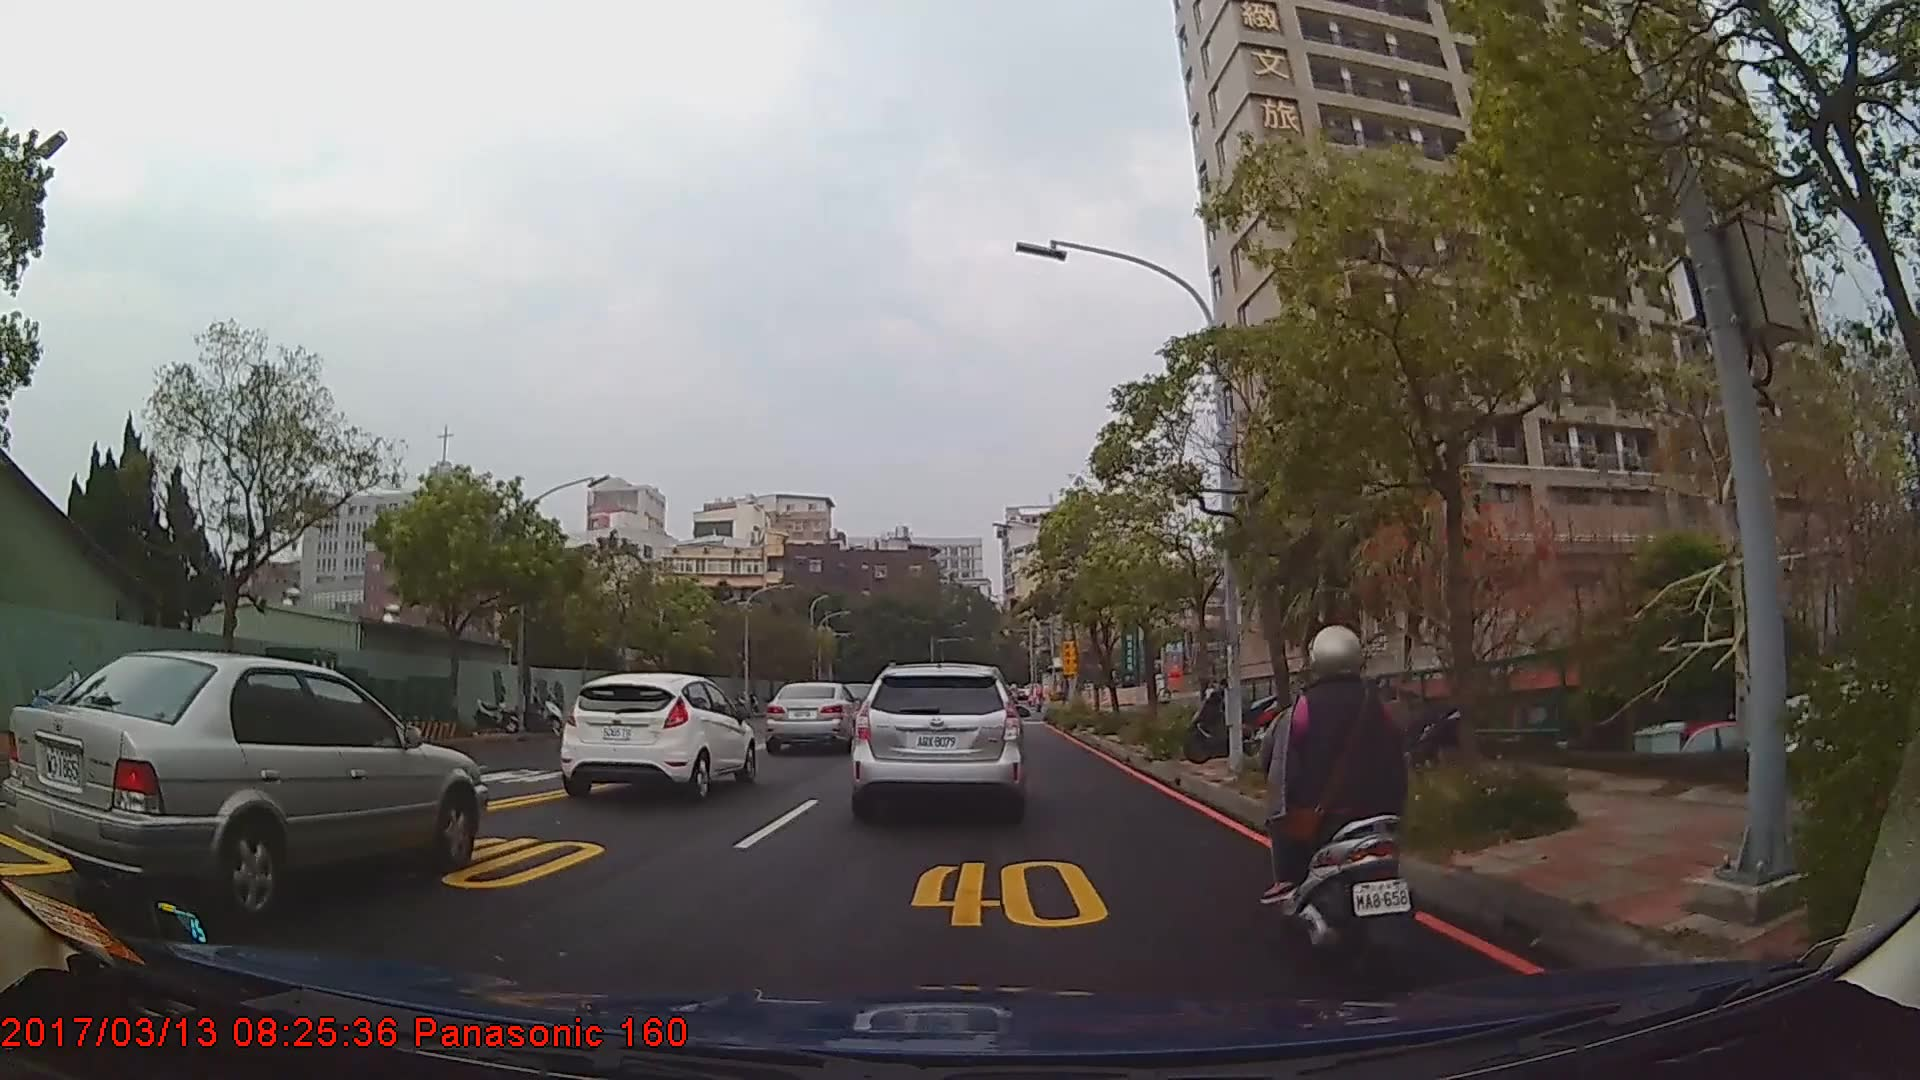rider: (1249, 621, 1414, 976)
vehicle: (0, 648, 487, 920), (849, 659, 1024, 819), (557, 671, 756, 801), (766, 680, 864, 753)
